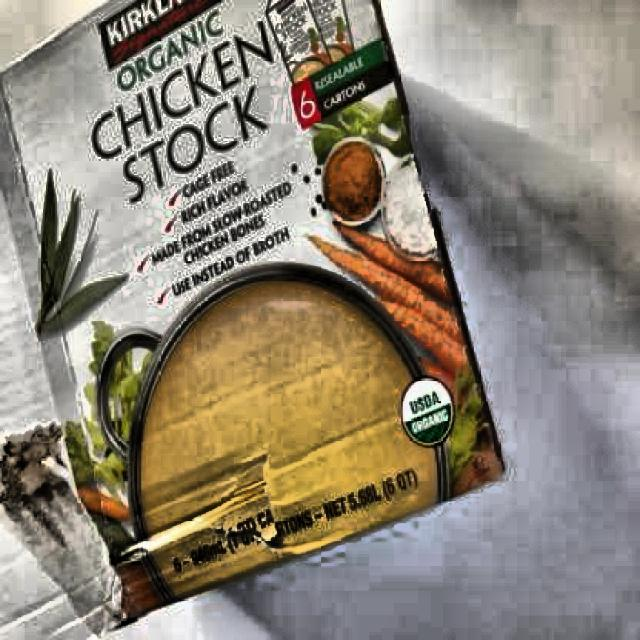Cardbox: (0, 0, 526, 627)
